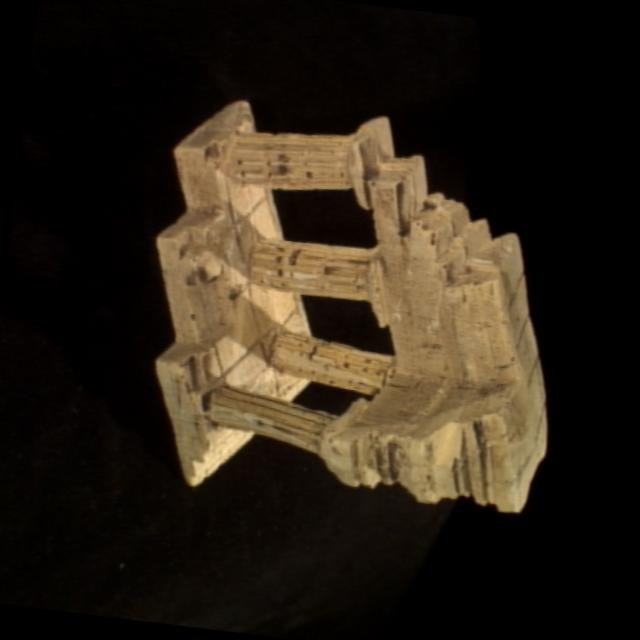Instance-Segmentation: (155, 101, 545, 510)
